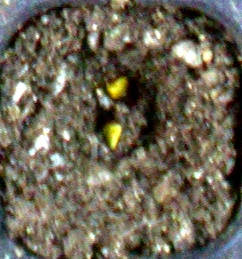pepper seed: (40, 44, 163, 196), (39, 25, 169, 125)
